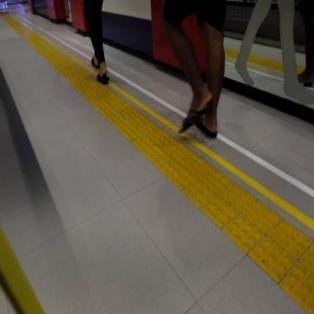Podoctatil: (4, 16, 313, 314)
